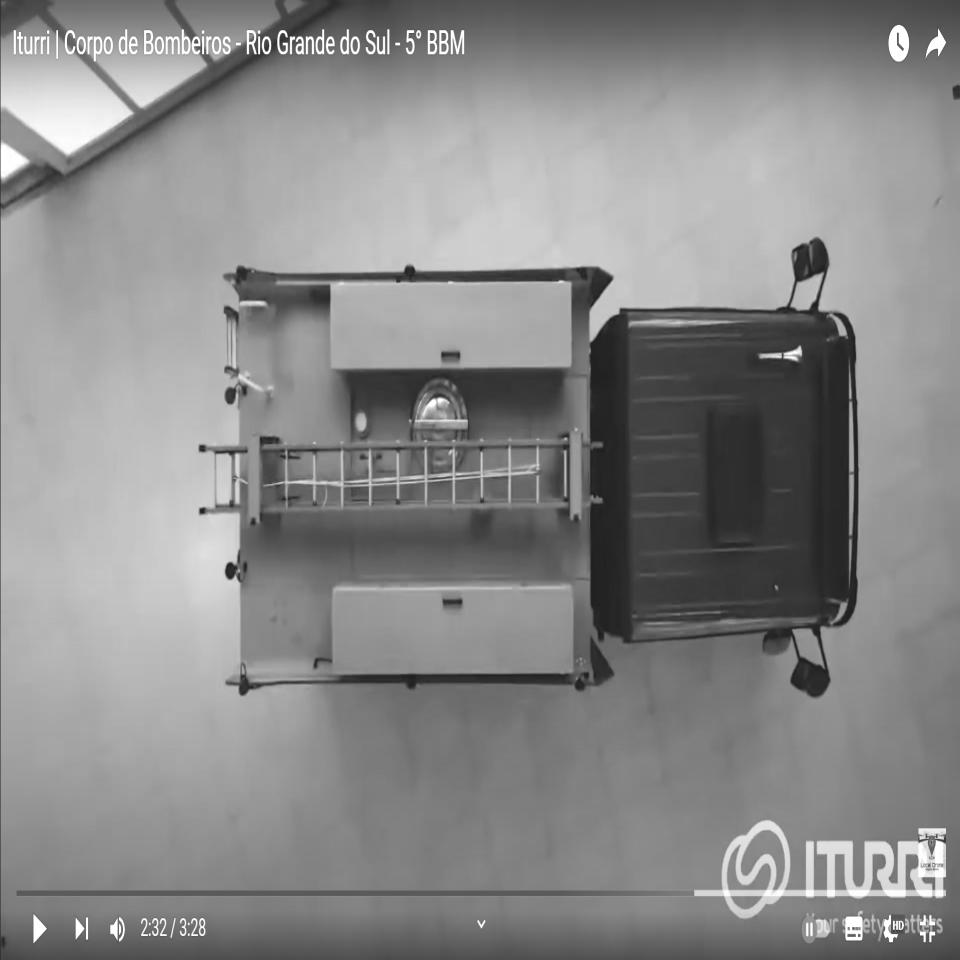bombeiro: (193, 234, 863, 706)
